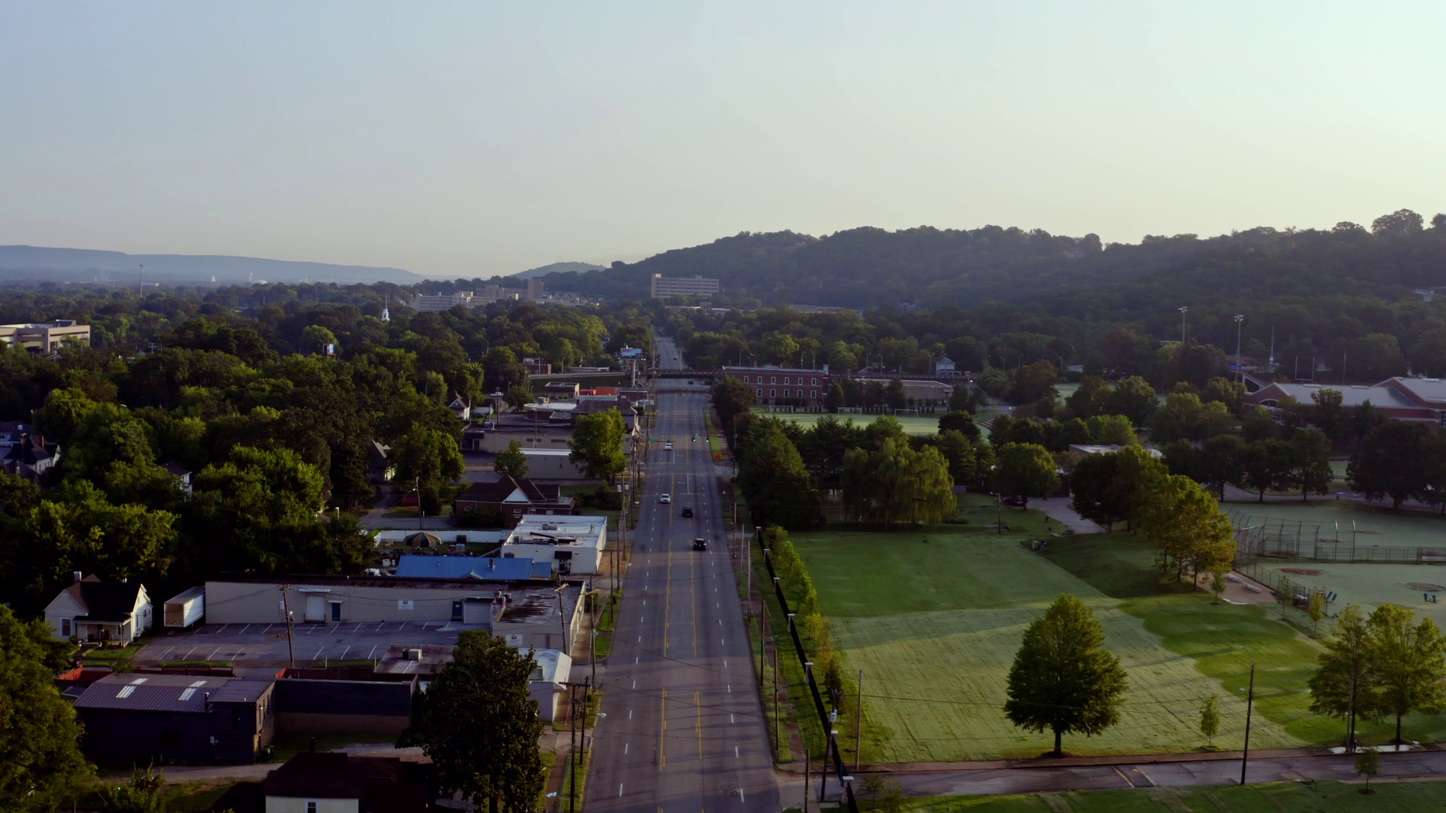Vehicle: (693, 538, 707, 550), (681, 506, 693, 517), (660, 494, 671, 504), (665, 443, 673, 451), (688, 380, 692, 383), (673, 358, 677, 359)
